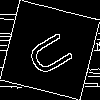U: (25, 25, 83, 80)
